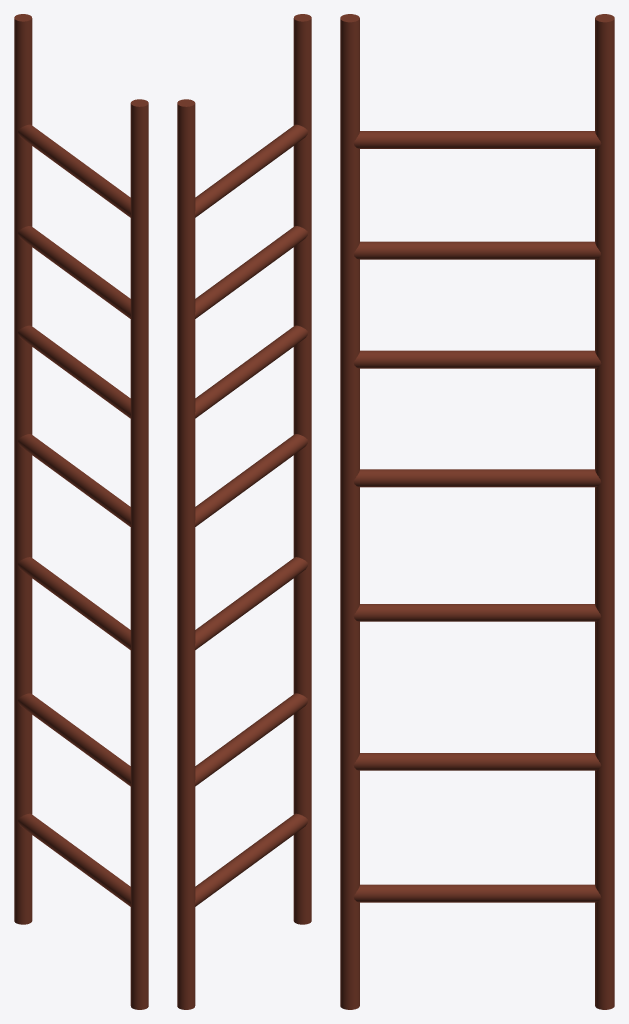
Rendered from escaleraMarceline.obj.
3 renders of one model, left to right at view 1: azimuth 30°, elevation 25°; view 2: azimuth 150°, elevation 25°; view 3: azimuth 270°, elevation 25°, orthographic. The views are drawn at different scales.
Parts seen in each view (by area): view 1: escaleraMarceline_pCylinder10; view 2: escaleraMarceline_pCylinder10; view 3: escaleraMarceline_pCylinder10.
Boxes of the visible parts, x1,y1,x2,y2 form: escaleraMarceline_pCylinder10: (14,14,148,1009); escaleraMarceline_pCylinder10: (177,14,311,1009); escaleraMarceline_pCylinder10: (340,14,614,1009).
Bounding box in the file's own units: 0.1502 × 8.31 × 2.09.
Materials: 1 (1 with a texture image).
